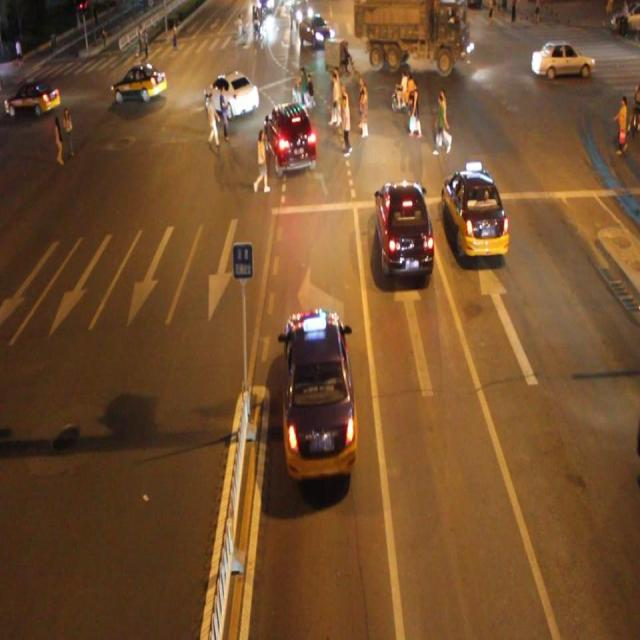bus: (353, 1, 469, 75)
car: (281, 306, 357, 475), (441, 170, 508, 260), (376, 178, 432, 279), (264, 102, 316, 173), (205, 73, 260, 119), (111, 63, 168, 104), (298, 11, 332, 46)
